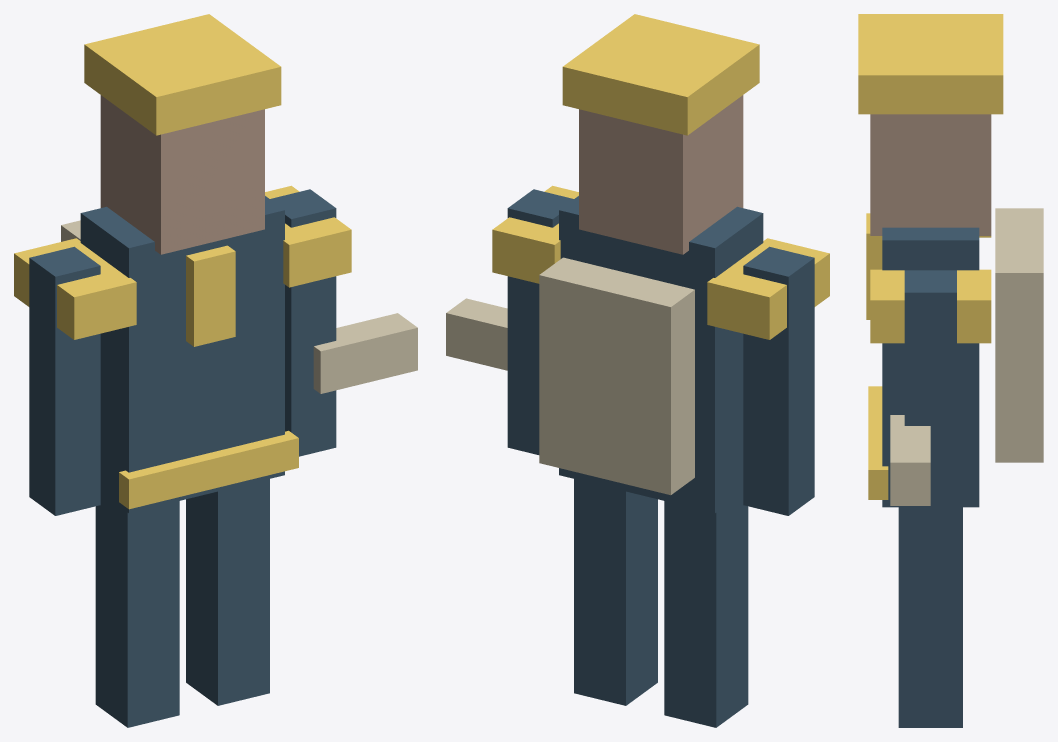
Rendered from 08_draven_chromabell_smith_at_command.glb.
The picture shows the model from 3 angles, left to right: view 1: azimuth 30°, elevation 25°; view 2: azimuth 150°, elevation 25°; view 3: azimuth 270°, elevation 25°; orthographic projection.
Visible parts, largest first — view 1: Draven Chromabell, Smith at Command; view 2: Draven Chromabell, Smith at Command; view 3: Draven Chromabell, Smith at Command.
Boxes of the visible parts, box(x1,y1,x2,y2) form: Draven Chromabell, Smith at Command: box(14, 14, 417, 727); Draven Chromabell, Smith at Command: box(446, 14, 829, 727); Draven Chromabell, Smith at Command: box(858, 14, 1043, 727).
Size of the model in its own units: 0.9875 by 1.71 by 0.4432.
